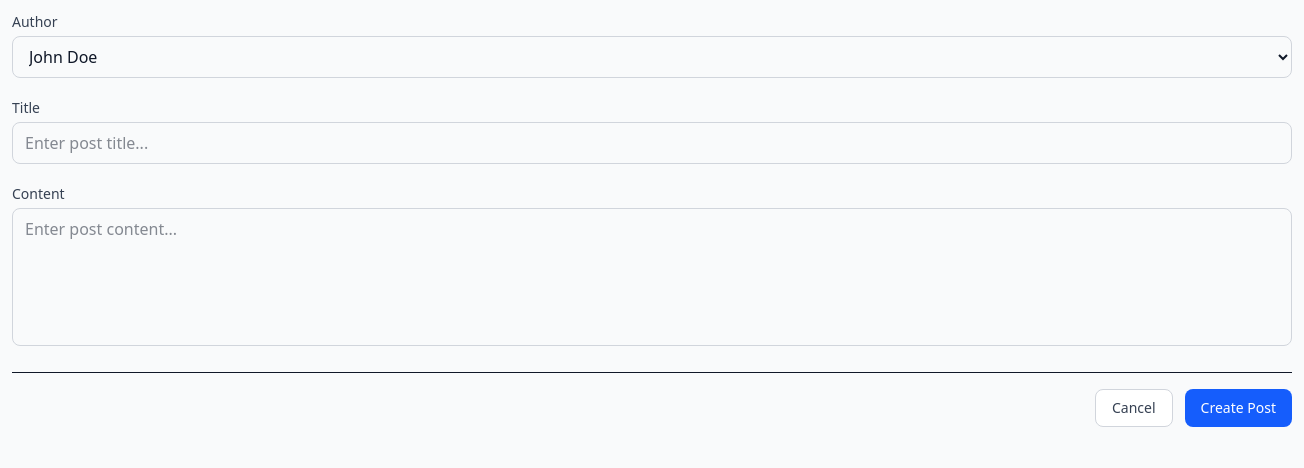
Test case: PostForm › validation › shows error when content is too short
Type "Valid Title" into the field labelled "Title".
click(652, 143); type("Valid Title")  # box [12,122,1292,164]
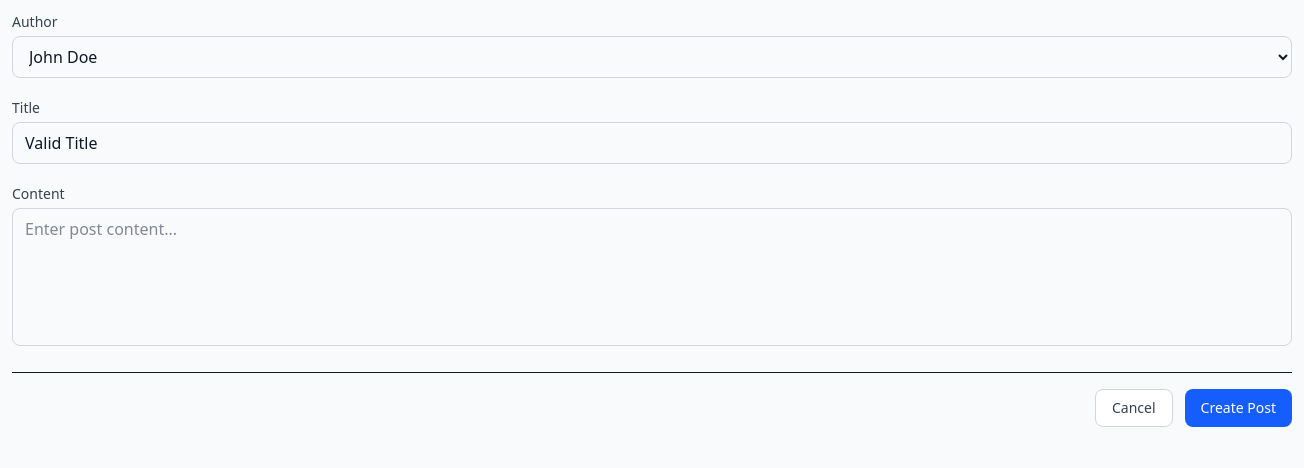
Type "Short" into the text box labelled "Content".
click(652, 277); type("Short")  # box [12,208,1292,346]
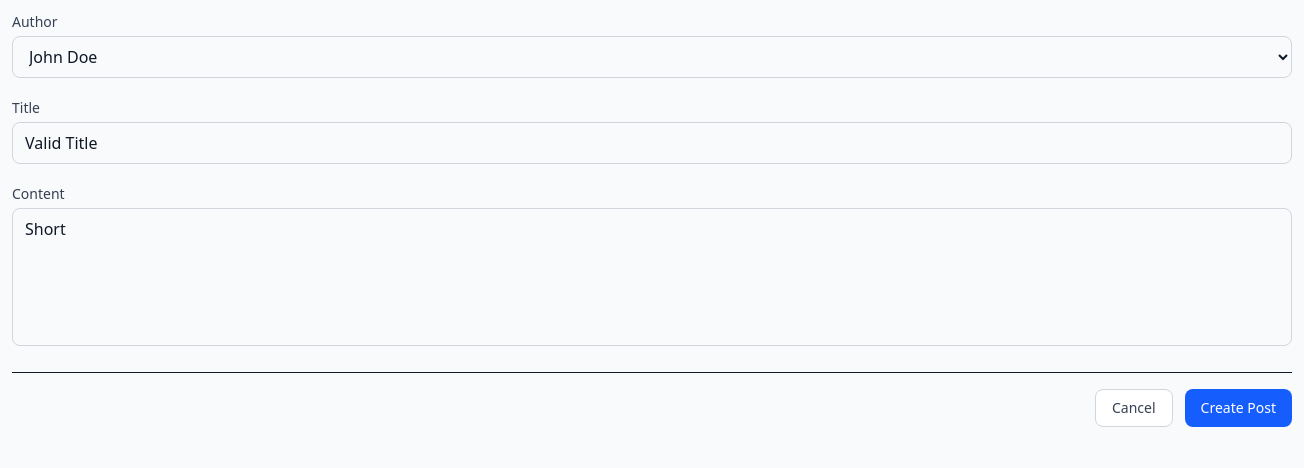
Click the button "Create Post".
click(1238, 408)  # box [1185,389,1292,427]
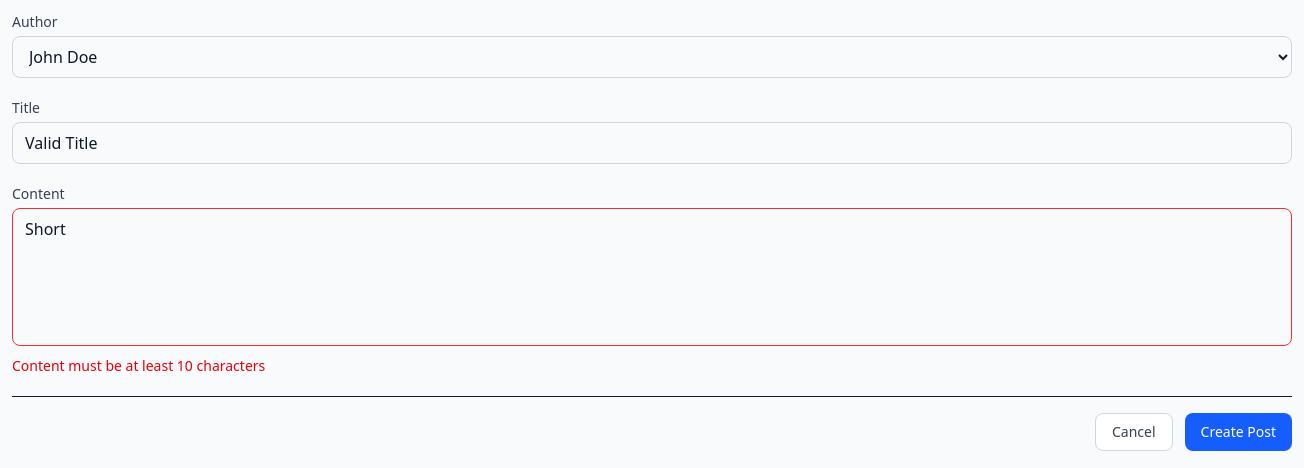
expect the text "Content must be at least 10 characters" is shown: met, box [12,356,265,375]
